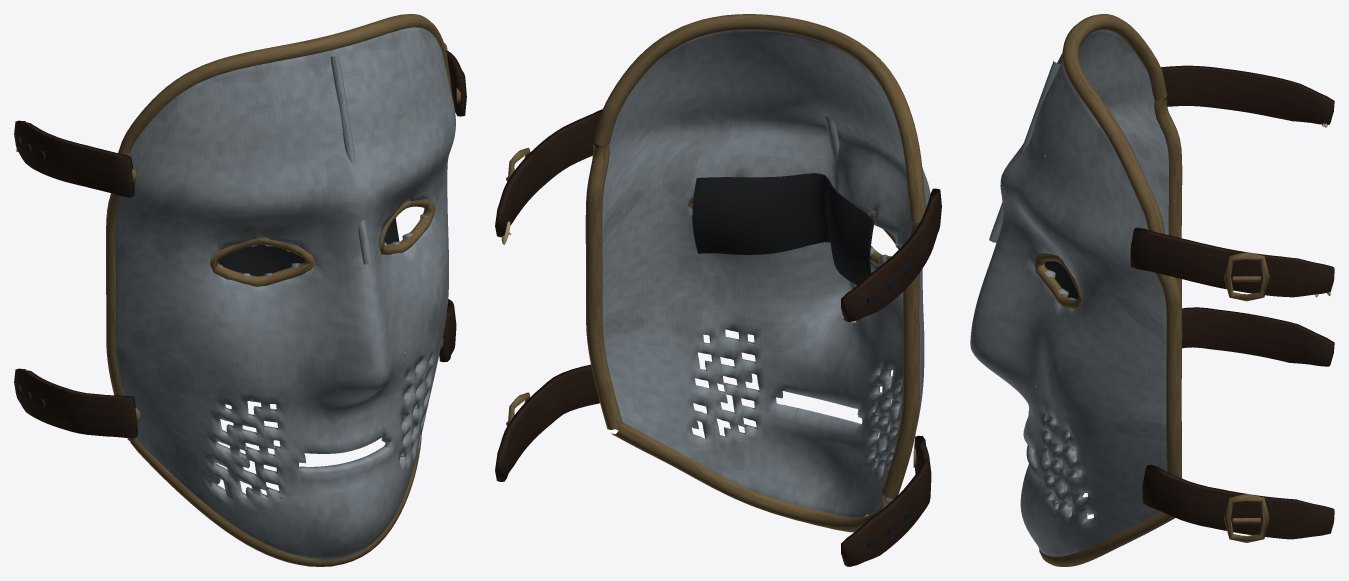
3 views of the same model, side by side, from view 1: azimuth 30°, elevation 25°; view 2: azimuth 150°, elevation 25°; view 3: azimuth 270°, elevation 25° (orthographic). The views are drawn at different scales.
Parts seen in each view (by area): view 1: hammered plate, aged alloy edge, oiled strap leather, recess and lining; view 2: hammered plate, aged alloy edge, oiled strap leather, recess and lining; view 3: hammered plate, oiled strap leather, aged alloy edge, recess and lining.
Boxes of the visible parts, x1,y1,x2,y2 form: hammered plate: (115, 27, 455, 559); aged alloy edge: (106, 14, 460, 566); oiled strap leather: (14, 50, 466, 438); recess and lining: (17, 136, 399, 408); hammered plate: (599, 30, 930, 517); aged alloy edge: (506, 14, 925, 532); oiled strap leather: (495, 109, 941, 566); recess and lining: (692, 173, 911, 549); hammered plate: (970, 30, 1168, 556); oiled strap leather: (1130, 65, 1334, 539); aged alloy edge: (1034, 14, 1269, 566); recess and lining: (1044, 261, 1078, 299).
Size of the model in its own units: 0.1781 by 0.2196 by 0.1435.
Materials: 6 (3 with a texture image).
